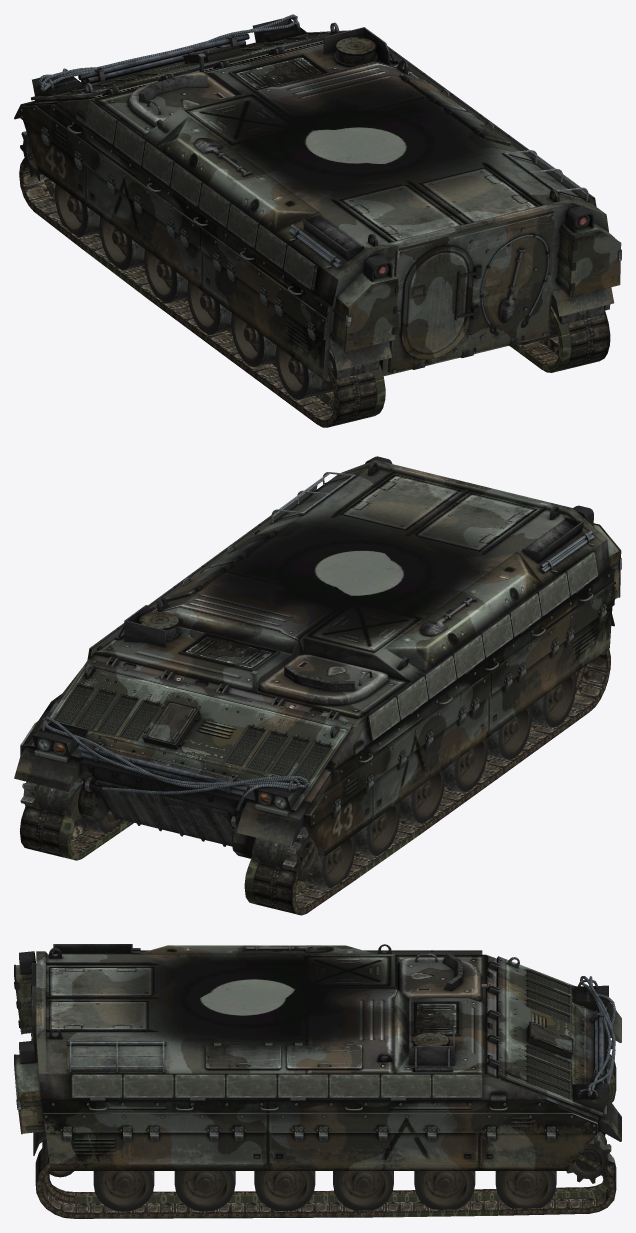
File: Ktt.FBX
The picture shows the model from 3 angles, top to bottom: view 1: azimuth 30°, elevation 25°; view 2: azimuth 150°, elevation 25°; view 3: azimuth 270°, elevation 25°; orthographic projection. The views are drawn at different scales.
Parts seen in each view (by area): view 1: hull01, back_hatch01, tread_left01, door, tread_right01, wheel14, wheel13, wheel12, wheel10, wheel11, wheel09, wheel08 (+1 smaller); view 2: hull01, tread_left01, tread_right01, wheel01, wheel16, wheel14, wheel09, wheel11, wheel13, wheel10, wheel12; view 3: hull01, tread_right01, wheel07, wheel06, wheel05, wheel04, wheel03, wheel02, wheel16, back_hatch01.
Part boxes in pixels (x1,y1,x2,y2): hull01: (14, 14, 621, 379); back_hatch01: (387, 211, 555, 373); tread_left01: (19, 152, 385, 427); door: (400, 245, 481, 359); tread_right01: (510, 306, 610, 372); wheel14: (275, 346, 333, 399); wheel13: (231, 313, 276, 366); wheel12: (187, 281, 231, 334); wheel10: (99, 216, 144, 270); wheel11: (144, 249, 187, 303); wheel09: (54, 184, 100, 237); wheel08: (550, 293, 603, 331); hull01: (14, 456, 621, 858); tread_left01: (244, 649, 610, 915); tread_right01: (20, 774, 133, 860); wheel01: (252, 827, 319, 882); wheel16: (20, 781, 82, 822); wheel14: (531, 673, 576, 727); wheel09: (306, 835, 355, 888); wheel11: (399, 769, 444, 823); wheel13: (487, 706, 531, 759); wheel10: (355, 802, 400, 855); wheel12: (444, 738, 488, 791); hull01: (14, 944, 621, 1170); tread_right01: (35, 1148, 616, 1218); wheel07: (93, 1171, 154, 1211); wheel06: (174, 1171, 235, 1211); wheel05: (254, 1171, 315, 1210); wheel04: (333, 1171, 393, 1210); wheel03: (414, 1171, 475, 1209); wheel02: (495, 1171, 556, 1208); wheel16: (566, 1132, 613, 1183); back_hatch01: (31, 963, 37, 1052).
Size of the model in its own units: 3.73 by 2.21 by 7.19.
